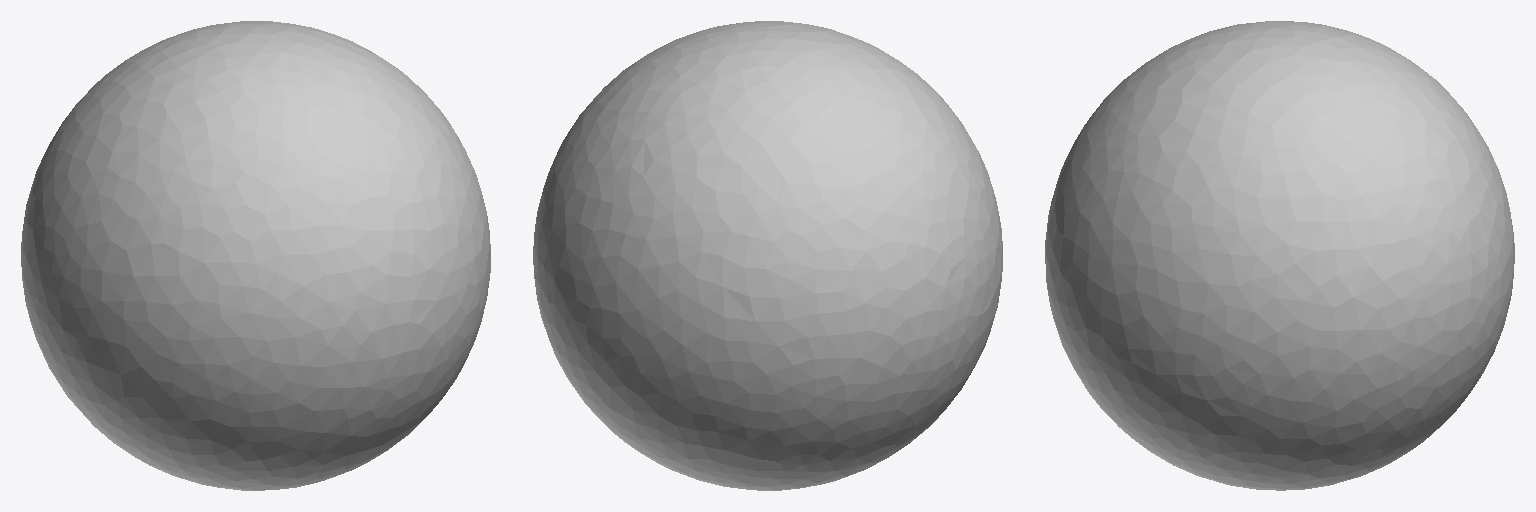
The model's file is ballTriangledUp.obj.
The picture shows the model from 3 angles: view 1: azimuth 30°, elevation 25°; view 2: azimuth 150°, elevation 25°; view 3: azimuth 270°, elevation 25°; orthographic projection.
Visible parts, largest first — view 1: Quad_Sphere; view 2: Quad_Sphere; view 3: Quad_Sphere.
Part boxes in pixels (x1,y1,x2,y2): Quad_Sphere: (21, 21, 490, 490); Quad_Sphere: (533, 21, 1002, 490); Quad_Sphere: (1045, 21, 1514, 490).
Size of the model in its own units: 2.57 by 2.57 by 2.57.